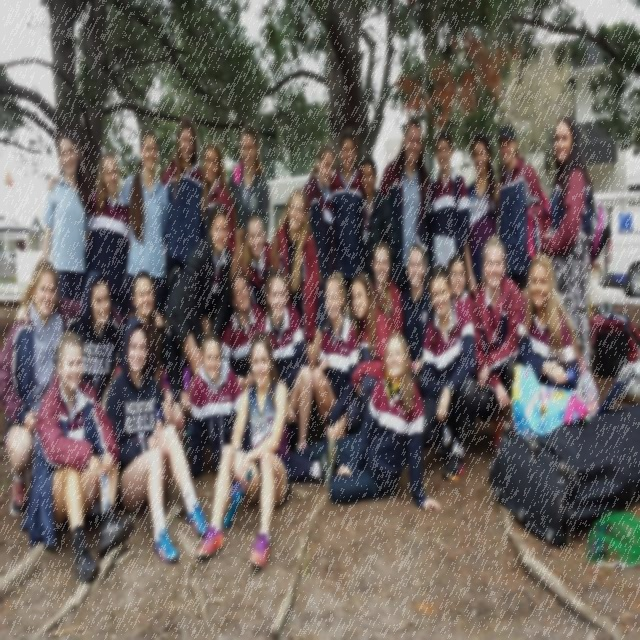pessoa: (29, 325, 138, 586), (103, 314, 211, 568), (294, 329, 442, 513), (192, 327, 294, 568), (187, 331, 337, 488), (540, 111, 614, 422), (14, 267, 164, 409), (0, 254, 70, 519), (164, 200, 234, 459), (160, 111, 210, 403), (121, 126, 170, 390), (421, 263, 479, 483), (116, 268, 186, 439), (470, 234, 524, 454), (254, 268, 314, 454), (495, 119, 555, 304), (376, 111, 433, 291), (516, 252, 588, 394), (268, 185, 322, 373), (311, 257, 360, 463), (344, 267, 401, 435), (40, 126, 93, 302), (84, 146, 132, 328), (328, 128, 367, 328), (426, 126, 472, 281), (462, 130, 500, 302), (220, 269, 266, 396), (398, 242, 437, 384), (358, 156, 399, 286), (301, 141, 337, 287), (227, 123, 270, 245), (194, 140, 238, 258), (237, 212, 279, 302), (371, 239, 404, 337), (446, 252, 474, 310)
